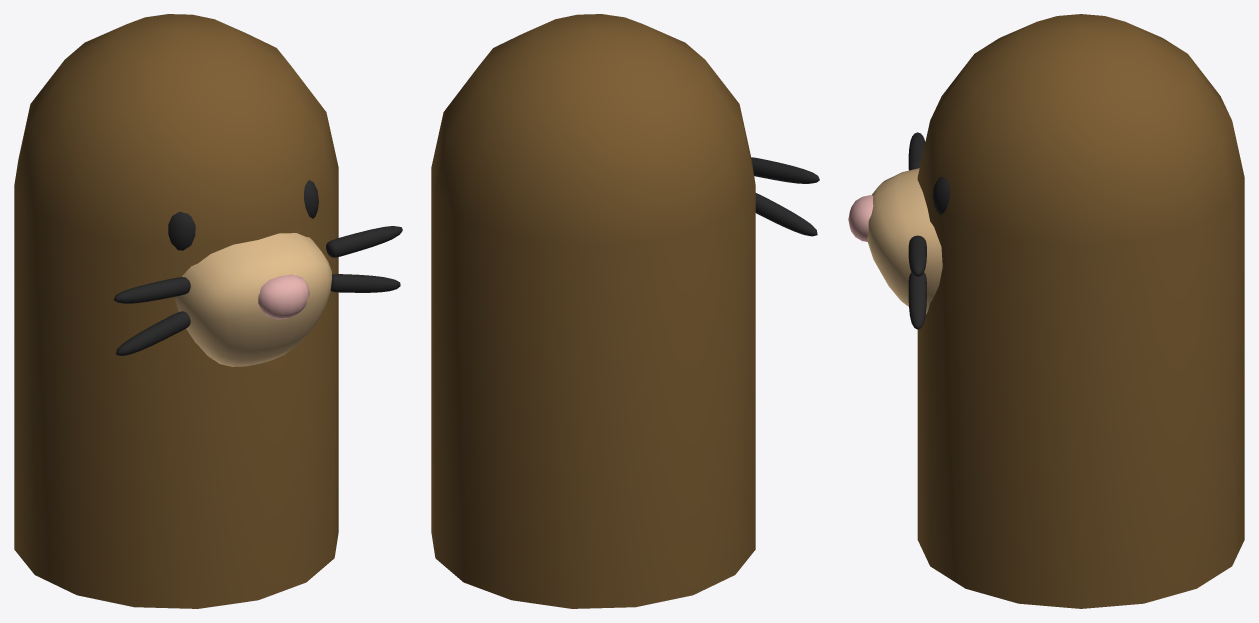
File: mole.fbx
3 views of the same model, side by side, from view 1: azimuth 30°, elevation 25°; view 2: azimuth 150°, elevation 25°; view 3: azimuth 270°, elevation 25° (orthographic).
Parts seen in each view (by area): view 1: mole; view 2: mole; view 3: mole.
Part boxes in pixels (x1=…): mole: x1=14, y1=14, x2=402, y2=608; mole: x1=431, y1=14, x2=819, y2=608; mole: x1=848, y1=14, x2=1244, y2=608.
Size of the model in its own units: 26.78 by 45.29 by 31.85.
